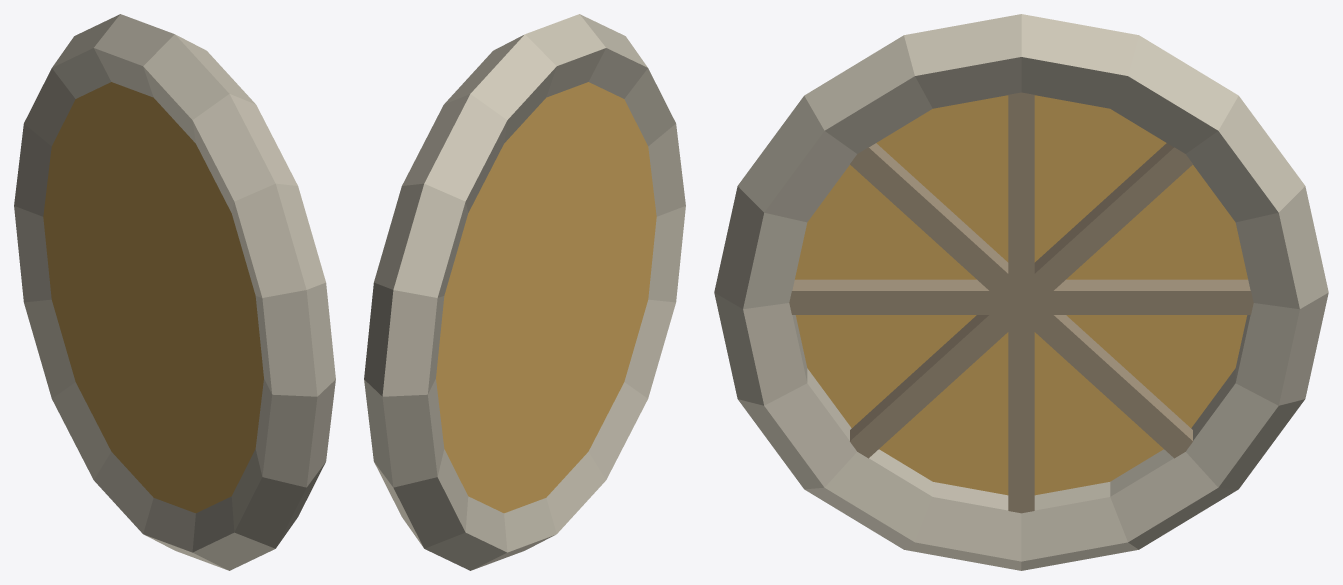
Rendered from Rose__Wheel.fbx.
3 views of the same model, side by side, from view 1: azimuth 30°, elevation 25°; view 2: azimuth 150°, elevation 25°; view 3: azimuth 270°, elevation 25° (orthographic). The views are drawn at different scales.
Visible parts, largest first — view 1: Rose__Wheel; view 2: Rose__Wheel; view 3: Rose__Wheel.
Part boxes in pixels (box(x1,y1,x2,y2)): Rose__Wheel: box(14, 14, 335, 570); Rose__Wheel: box(364, 14, 685, 570); Rose__Wheel: box(714, 14, 1328, 570).
Size of the model in its own units: 20.92 by 162 by 162.
1 material, 1 textured.
